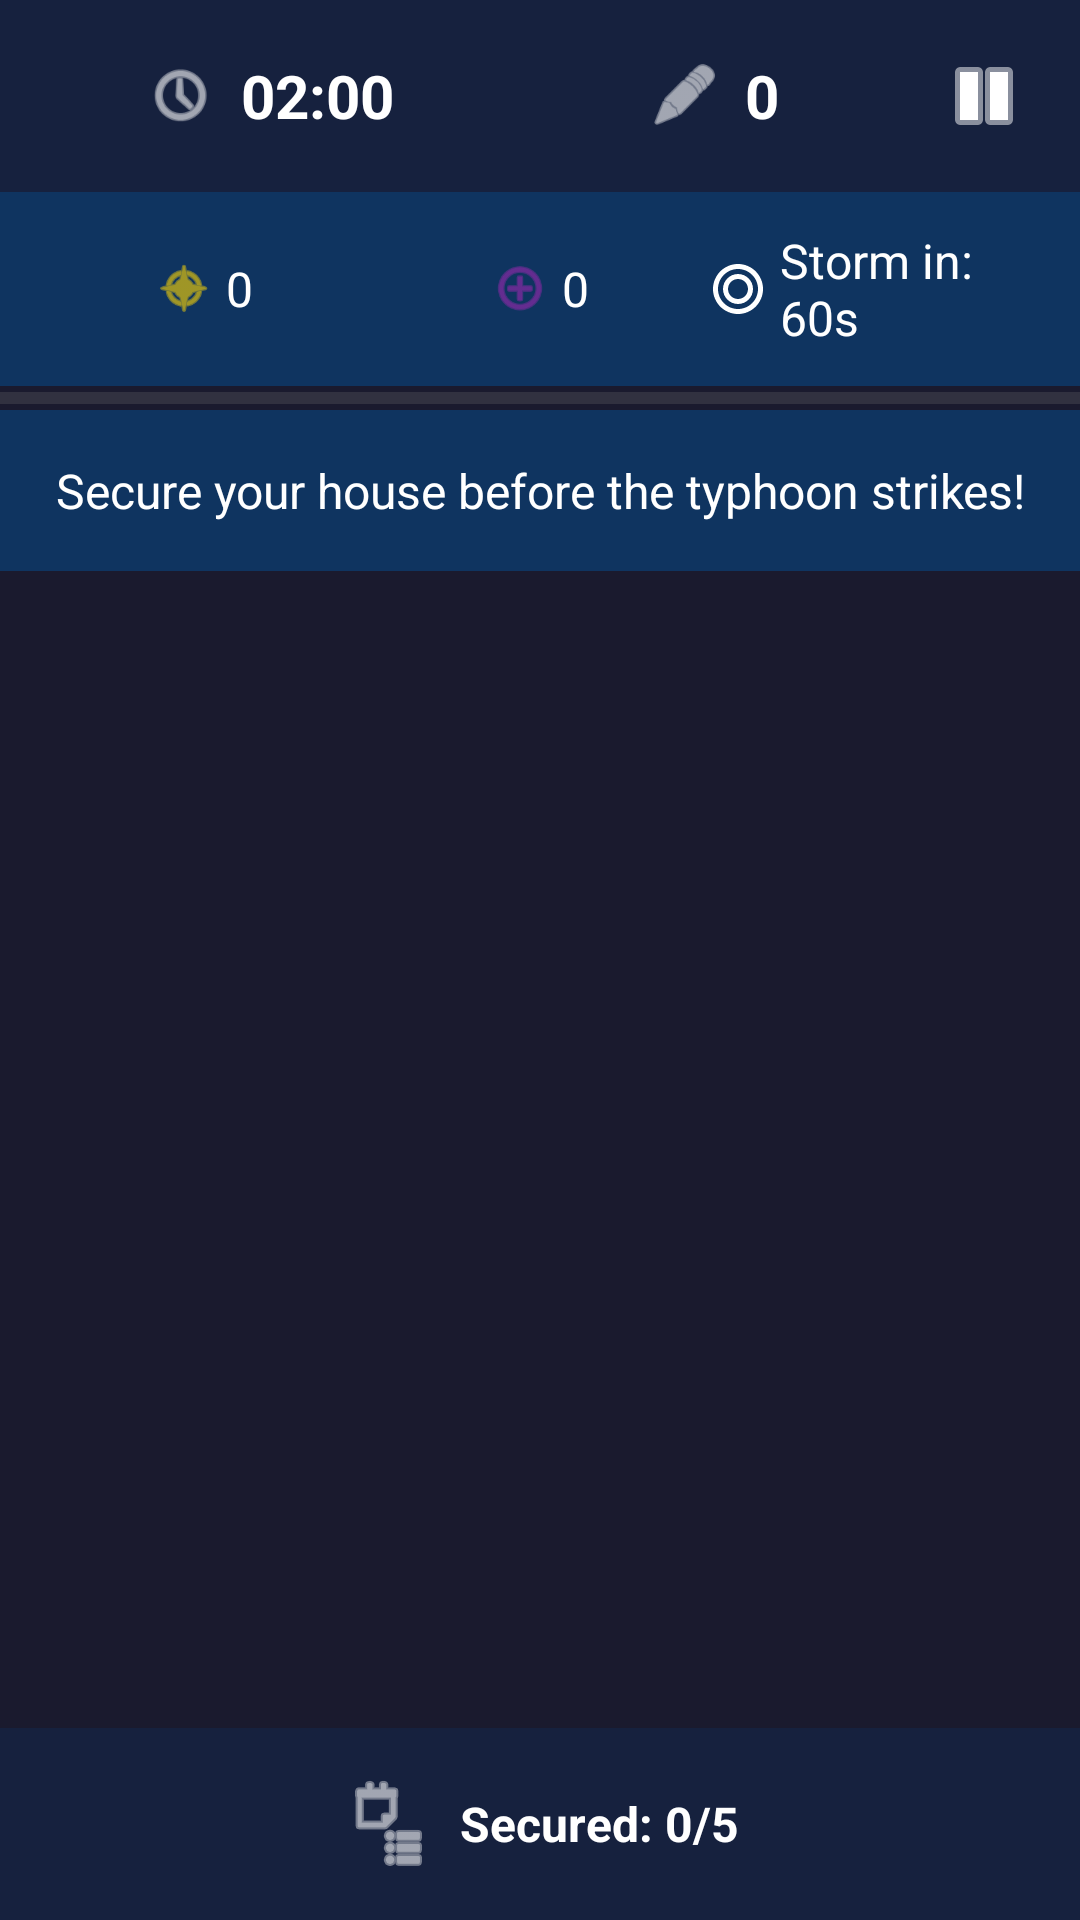

Locate icon controls on the screen. Image size 1080×1920, boxes as (x1, y1, x2, y2).
add: (498, 266, 542, 311)
agenda: (355, 1781, 422, 1866)
compass: (160, 265, 207, 312)
edit: (654, 64, 715, 125)
pause: (955, 67, 1013, 125)
recent history: (155, 69, 207, 121)
